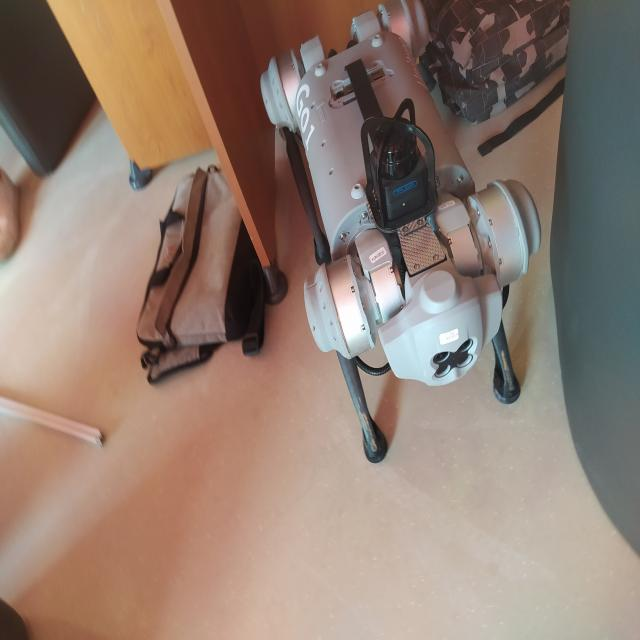unitree-go1-robot: (248, 0, 555, 473)
